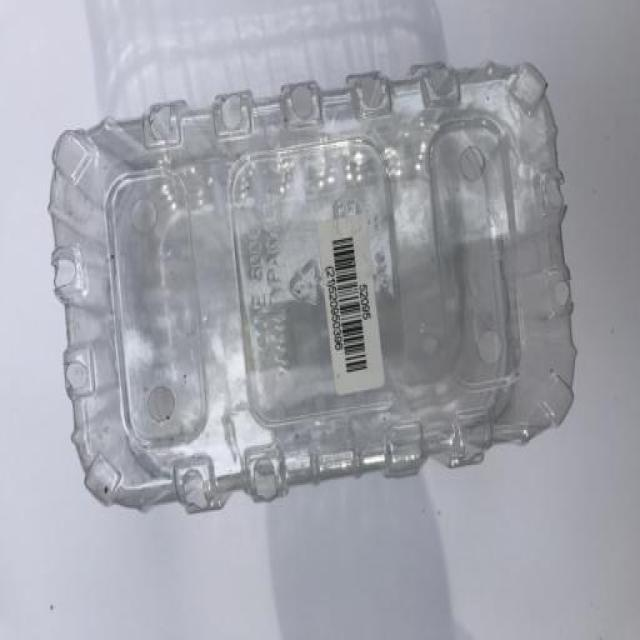plastic: (46, 54, 578, 514)
